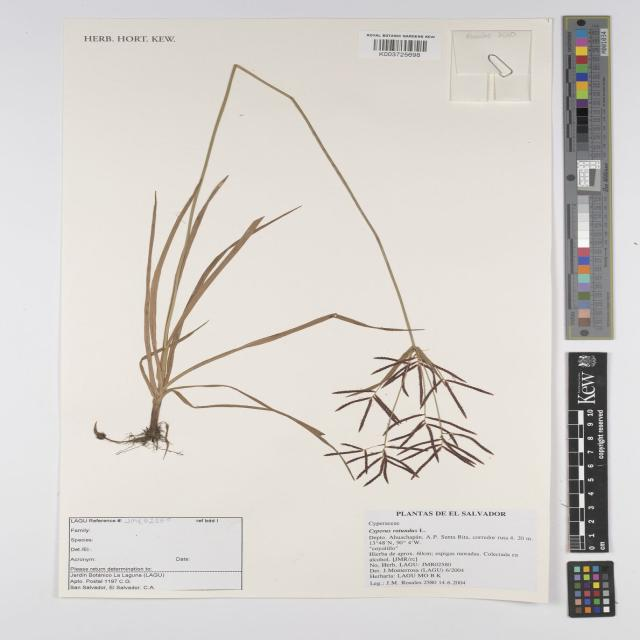cyperus: (324, 328, 505, 496)
